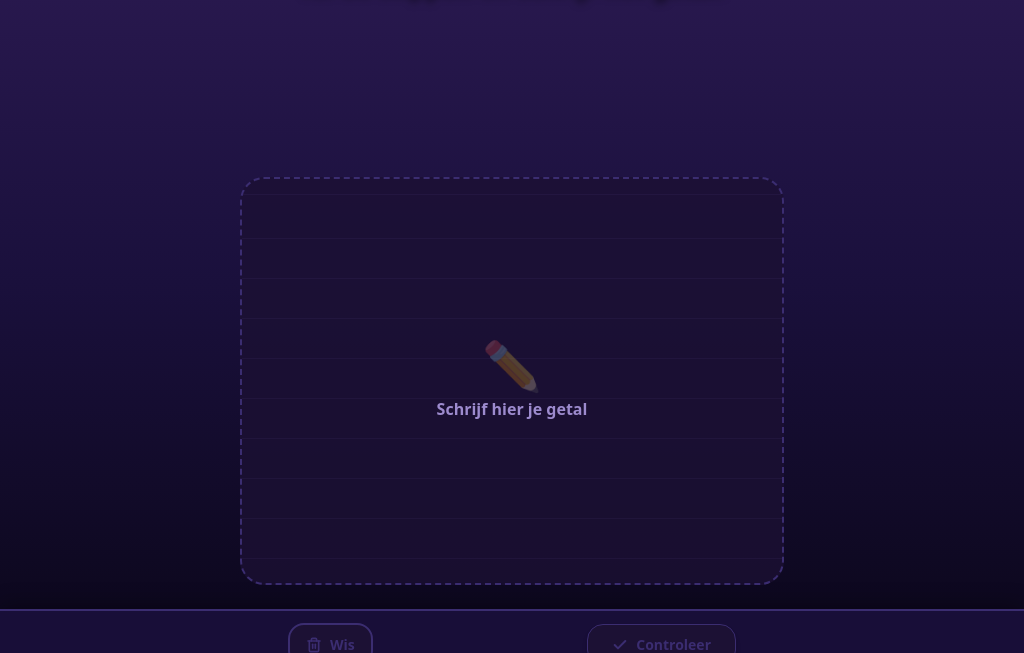
Scenario: ExerciseWriteNumber › on a correct recognition: celebrates, advances progress, and resets for the next round
Later steps or results of the test are not shown.
Press the mouse on the drawing at (512, 381), box [242,179,782,583]
(page scrolled)
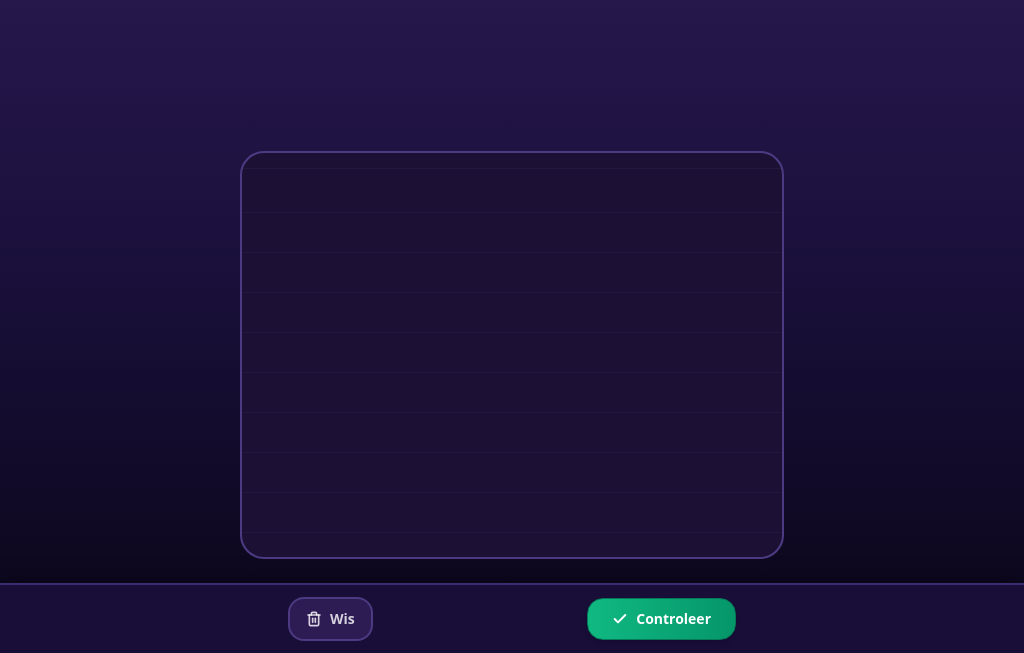
Click the button "Controleer".
click(662, 619)  # box [587,598,736,640]
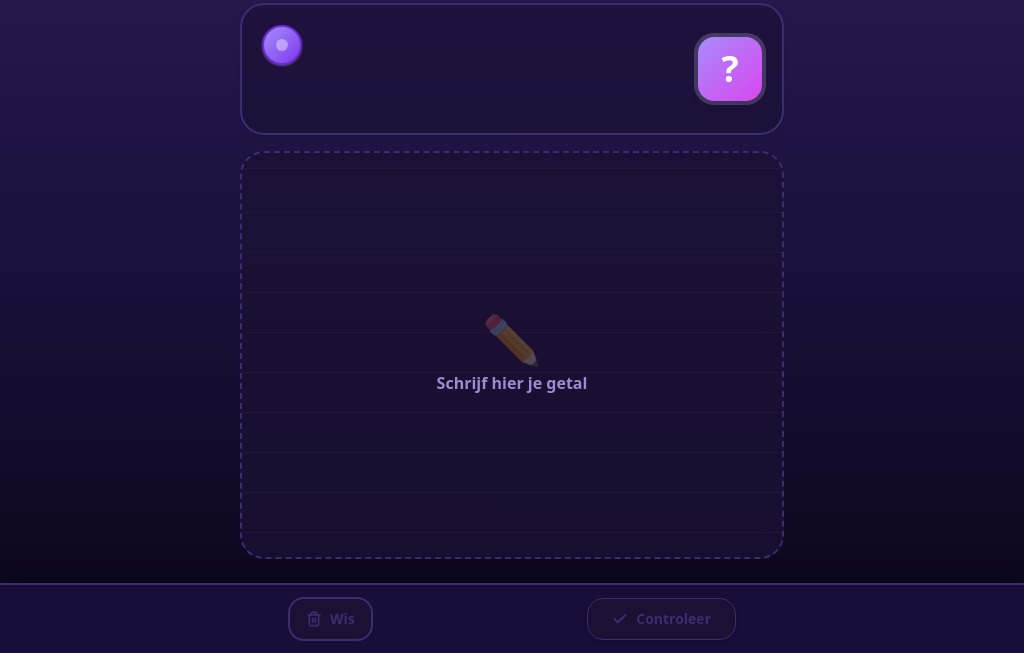
Now the button "Controleer" is disabled, box [587,598,736,640]
